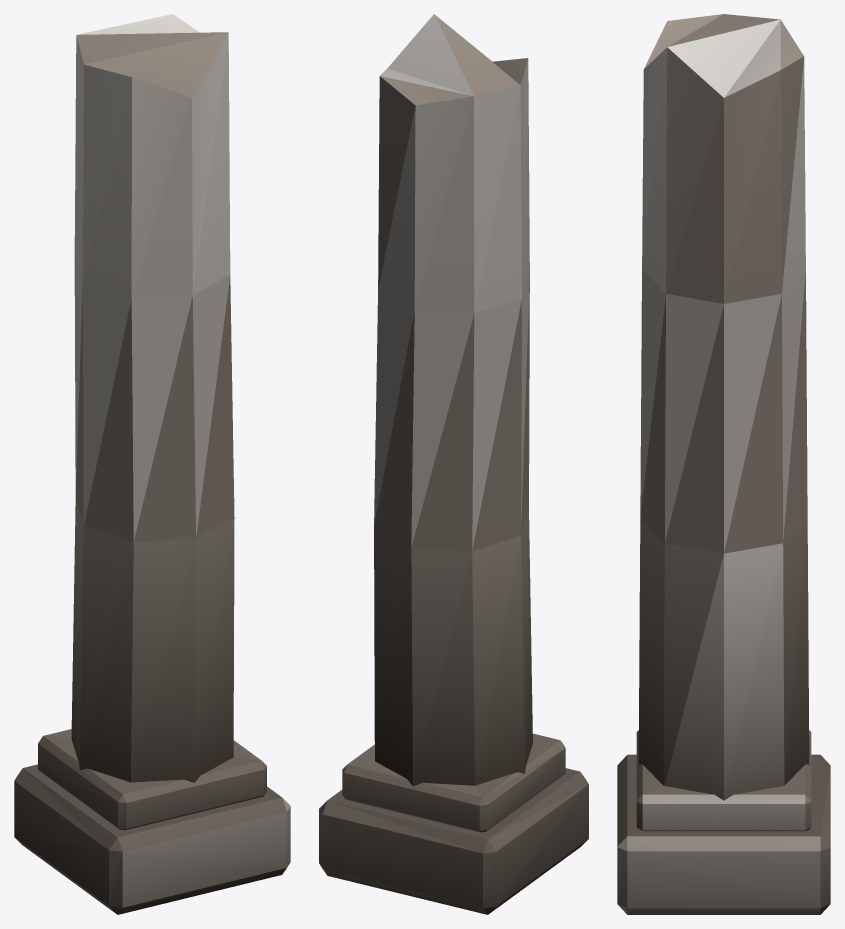
The model's file is abyss_pillar.glb.
3 views of the same model, side by side, from view 1: azimuth 30°, elevation 25°; view 2: azimuth 150°, elevation 25°; view 3: azimuth 270°, elevation 25° (orthographic). The views are drawn at different scales.
Parts seen in each view (by area): view 1: ca_abyss_pillar; view 2: ca_abyss_pillar; view 3: ca_abyss_pillar.
Part boxes in pixels (x1,y1,x2,y2): ca_abyss_pillar: [14, 14, 290, 914]; ca_abyss_pillar: [319, 14, 588, 914]; ca_abyss_pillar: [617, 14, 830, 914].
Bounding box in the file's own units: 1 × 4.4 × 1.
Materials: 1 (1 with a texture image).
